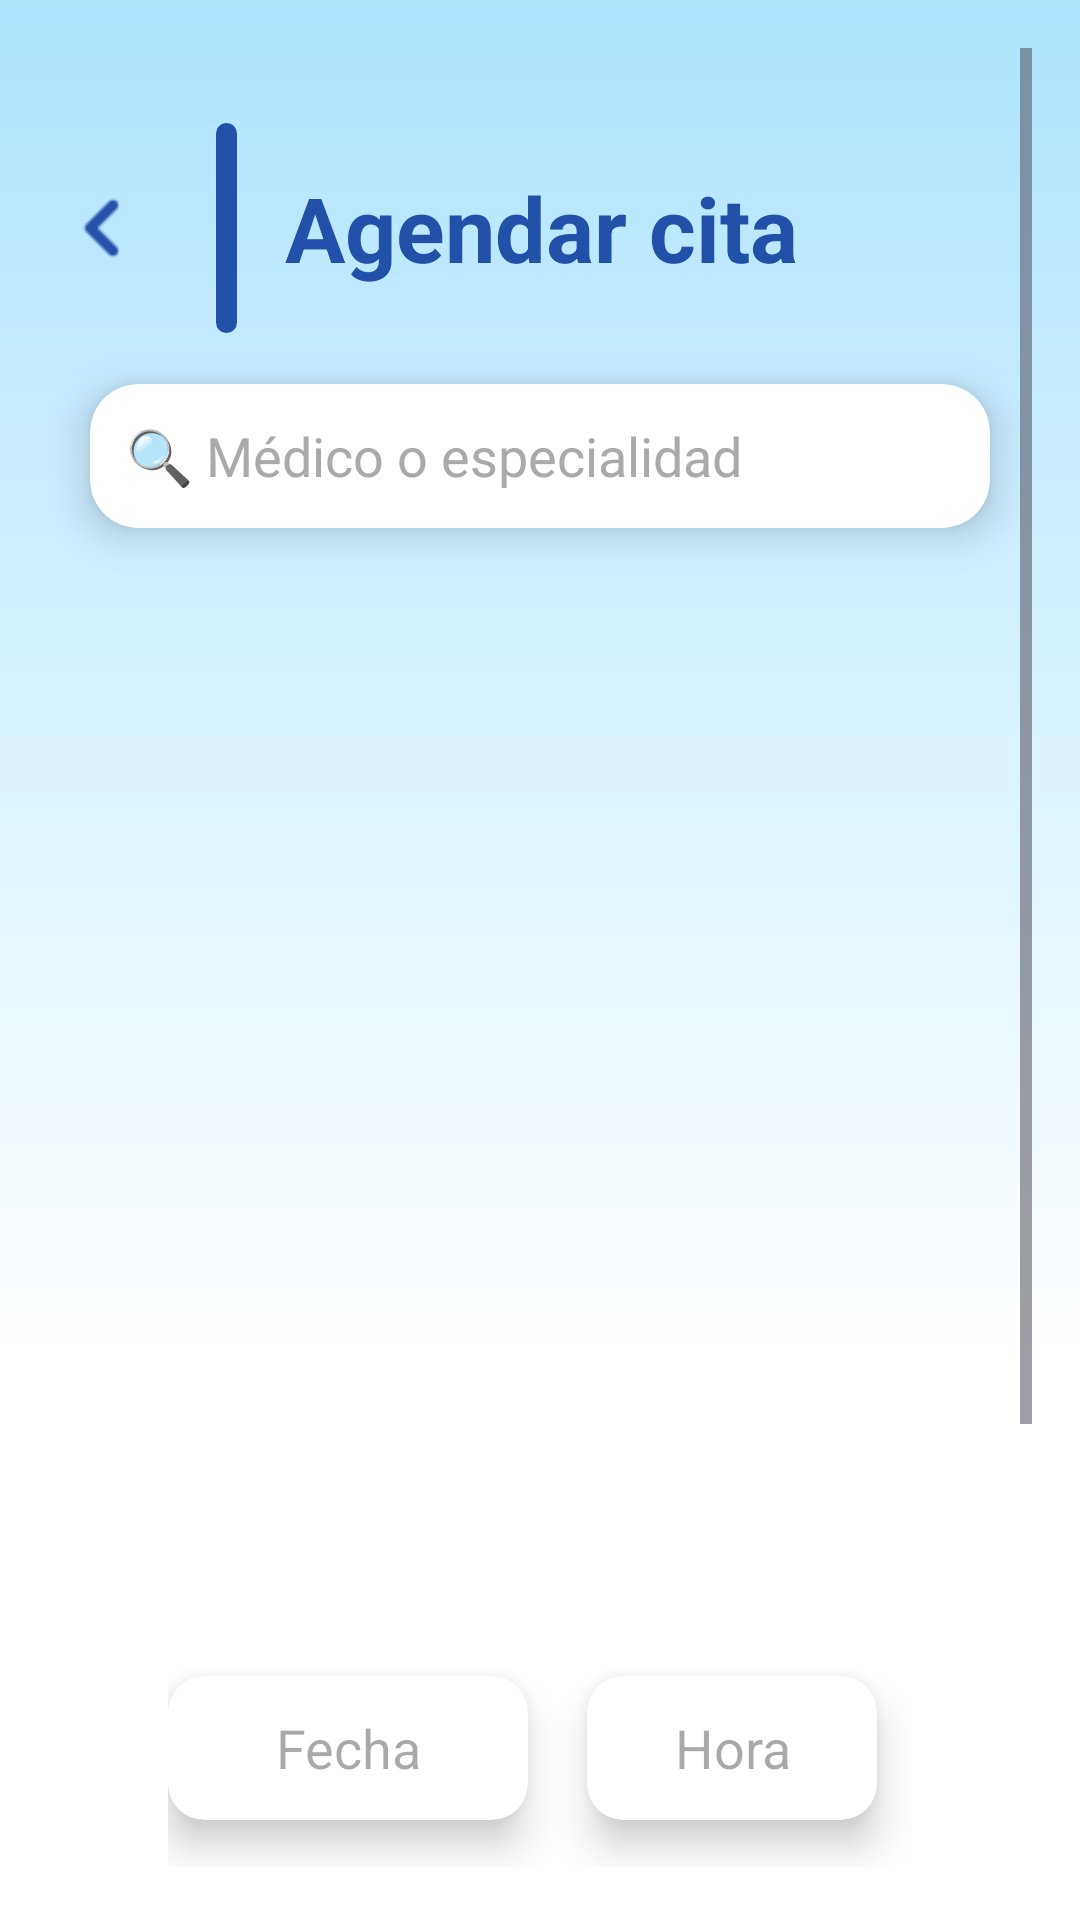

Where icons sit on this 1080*1920 app screen, as {"x1": x1, "y1": y1, "x2": x2, "y2": y2}:
atras: {"x1": 84, "y1": 199, "x2": 119, "y2": 257}
